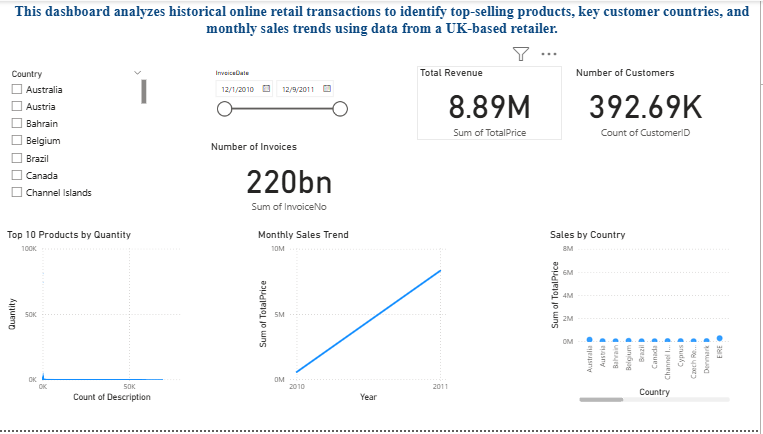

Layout of this report page (visuals, bound fields, positions):
{"tool":"powerbi","page":{"name":"Page 4","canvas":[1280,720],"ordinal":3},"visuals":[{"type":"textbox","box":[10.1,0,1269.9,70.6],"z":0},{"type":"slicer","fields":{"Values":["Online_Retail_Cleaned.Country"]},"box":[10.1,109.2,243.6,236.9],"z":1},{"type":"slicer","fields":{"Values":["Online_Retail_Cleaned.InvoiceDate"]},"box":[352.8,109.2,243.6,110.9],"z":2},{"type":"card","title":"Total Revenue","fields":{"Values":["Sum(Online_Retail_Cleaned.TotalPrice)"]},"box":[703.8,109.2,243.6,124.3],"z":3},{"type":"card","title":"Number of Customers","fields":{"Values":["CountNonNull(Online_Retail_Cleaned.CustomerID)"]},"box":[965.9,109.2,243.6,124.3],"z":4},{"type":"card","title":"Number of Invoices","fields":{"Values":["Sum(Online_Retail_Cleaned.InvoiceNo)"]},"box":[352.8,233.5,272.1,126],"z":5},{"type":"clusteredBarChart","title":"Top 10 Products by Quantity","fields":{"Category":["Online_Retail_Cleaned.Quantity"],"Y":["CountNonNull(Online_Retail_Cleaned.Description)"]},"box":[10.1,381.3,312.4,297.3],"z":6},{"type":"lineChart","title":"Monthly Sales Trend","fields":{"Category":["Online_Retail_Cleaned.InvoiceDate.Variation.Date Hierarchy.Year","Online_Retail_Cleaned.InvoiceDate.Variation.Date Hierarchy.Month"],"Y":["Sum(Online_Retail_Cleaned.TotalPrice)"]},"box":[431.7,381.3,329.2,297.3],"z":7},{"type":"scatterChart","title":" Sales by Country","fields":{"X":["Online_Retail_Cleaned.Country"],"Y":["Sum(Online_Retail_Cleaned.TotalPrice)"]},"box":[922.2,381.3,312.4,297.3],"z":8}]}

Visuals, with their boxes in screenshot pixels (x1, y1, x2, y2), scaled from the page's 1280x720 canvas onto the 763x434 screenshot:
textbox: rect(6, 0, 762, 43)
slicer - Online_Retail_Cleaned.Country: rect(6, 66, 151, 209)
slicer - Online_Retail_Cleaned.InvoiceDate: rect(210, 66, 356, 133)
"Total Revenue" card: rect(420, 66, 565, 141)
"Number of Customers" card: rect(576, 66, 721, 141)
"Number of Invoices" card: rect(210, 141, 372, 217)
"Top 10 Products by Quantity" clusteredBarChart: rect(6, 230, 192, 409)
"Monthly Sales Trend" lineChart: rect(257, 230, 454, 409)
" Sales by Country" scatterChart: rect(550, 230, 736, 409)
